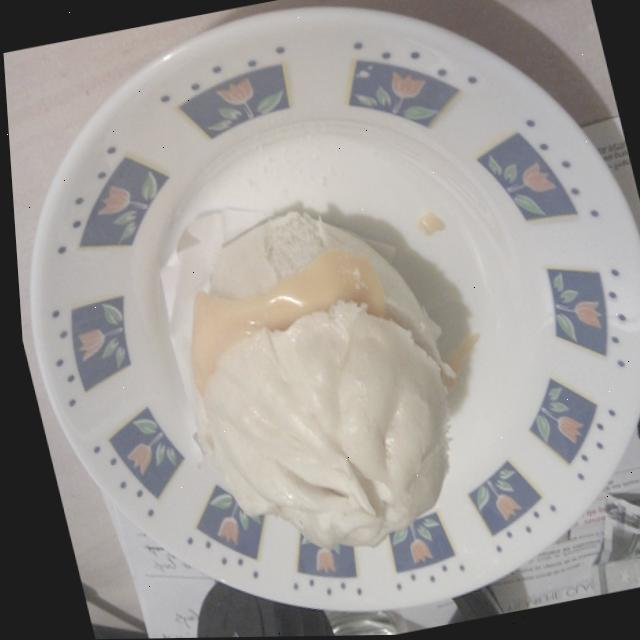带馅早点: (123, 182, 505, 599)
